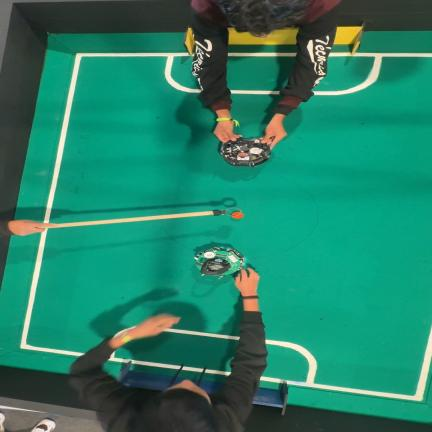cancha: (0, 22, 432, 423), (228, 36, 296, 139)
limites: (44, 53, 198, 222)
pelota: (233, 212, 243, 218)
porteria: (120, 361, 169, 389), (253, 381, 288, 415), (228, 28, 297, 45), (335, 25, 364, 54), (198, 381, 221, 394), (184, 28, 195, 55)
robot: (194, 247, 244, 278), (220, 139, 270, 167)
